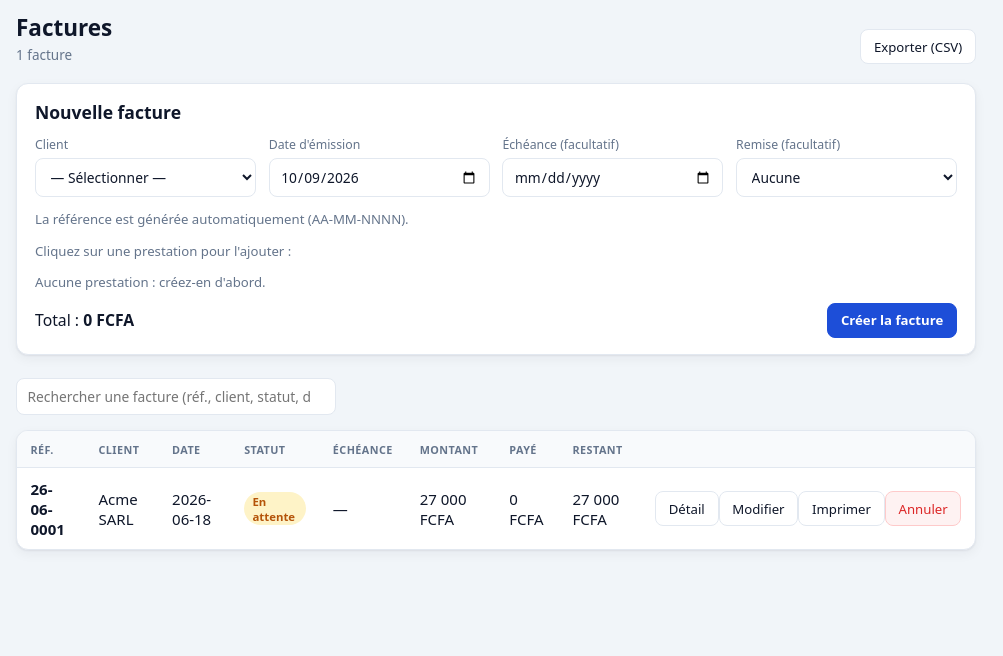
Test case: NotesPage — modification › affiche les lignes portant une prestation archivée
Step 1. Click the button "Modifier" → (758, 509), box [718,491,798,526]
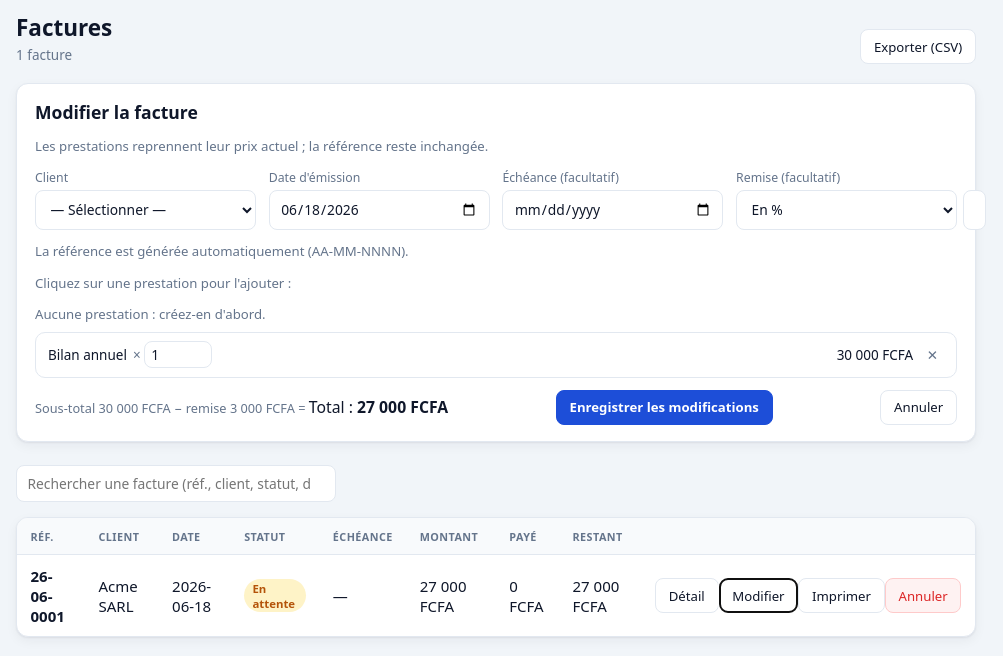
Result: the text "Bilan annuel" is shown at [48,346,127,364]
Result: the text "30 000 FCFA ✕" is shown at [837,344,944,365]
